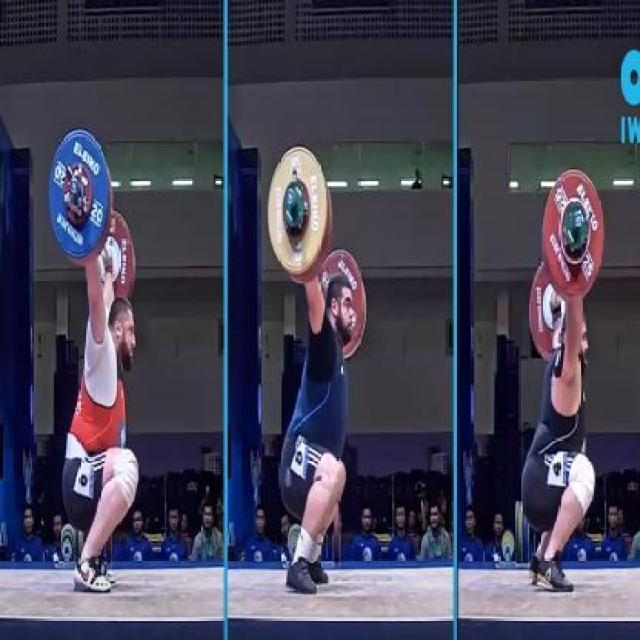barbell: (263, 139, 334, 279), (42, 125, 115, 261), (540, 164, 608, 298)
